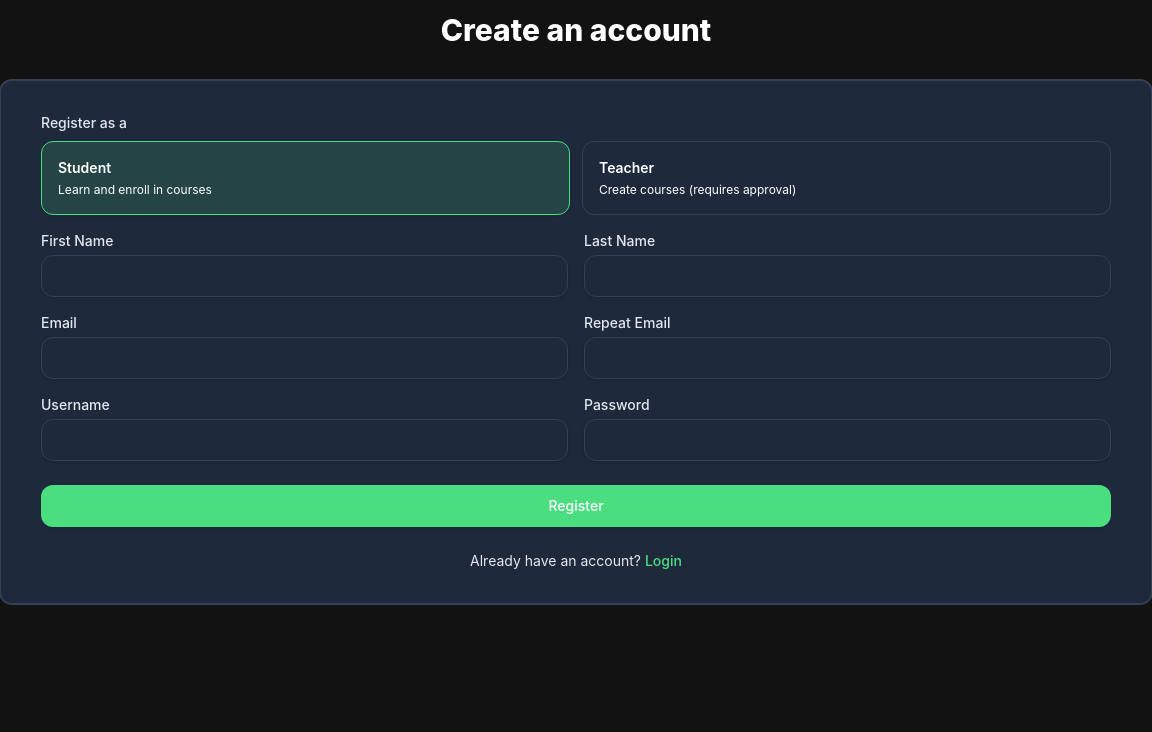
it: Register Component Test › Backend Error Handling › should handle 409 conflict error
The width and height of the screenshot is (1152, 732).
Type "john.doe@example.com" into the field labelled "Email" at (304,358), box [41,337,568,379]
Type "john.doe@example.com" into the field labelled "Repeat Email" at (848,358), box [584,337,1111,379]
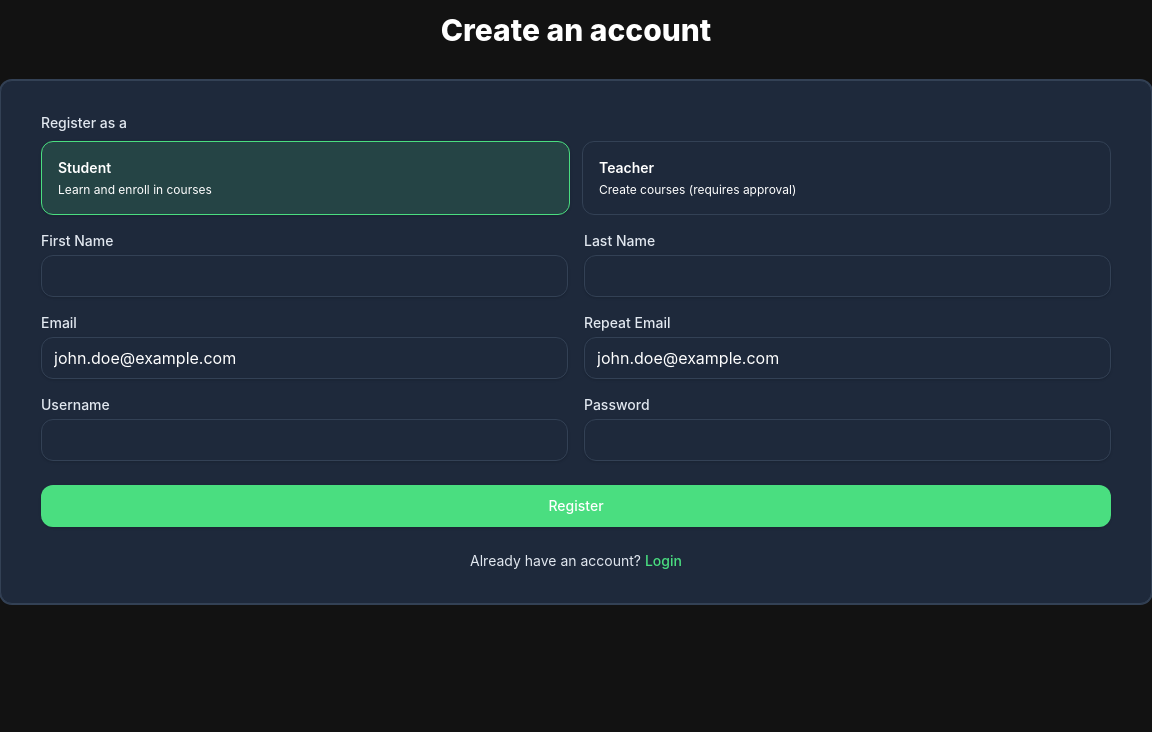
Type "John" into the field labelled "First Name" at (304,276), box [41,255,568,297]
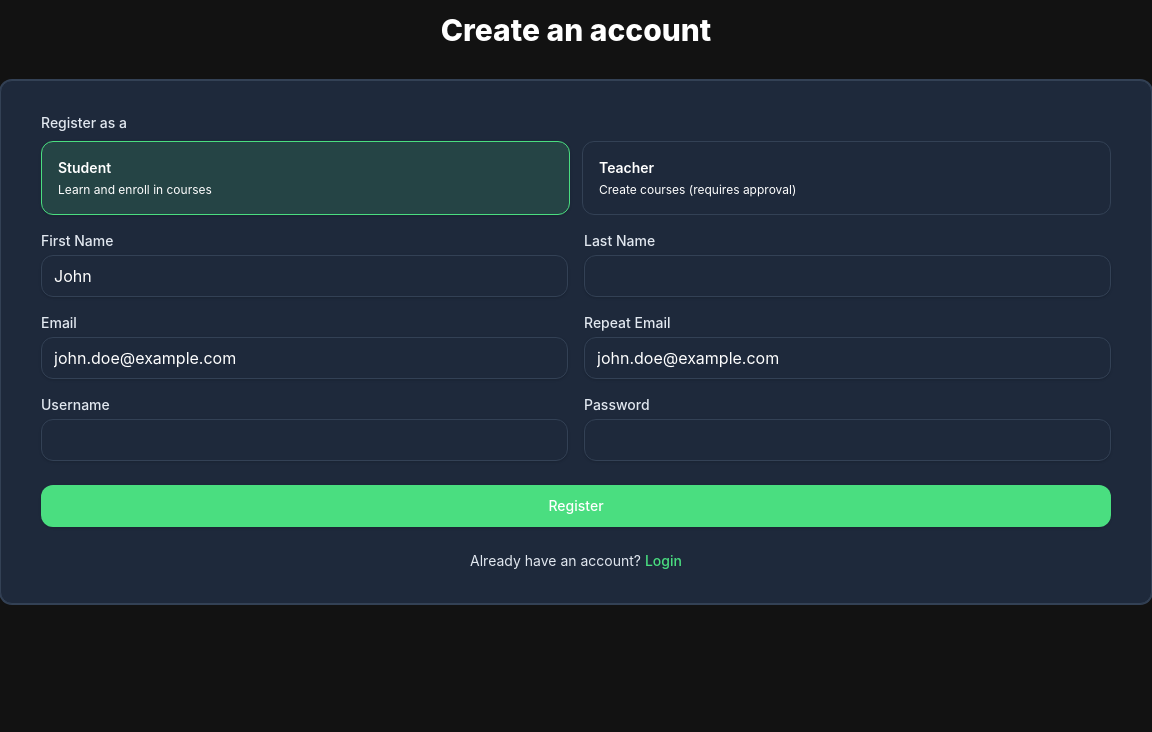
Type "Doe" into the field labelled "Last Name" at (848,276), box [584,255,1111,297]
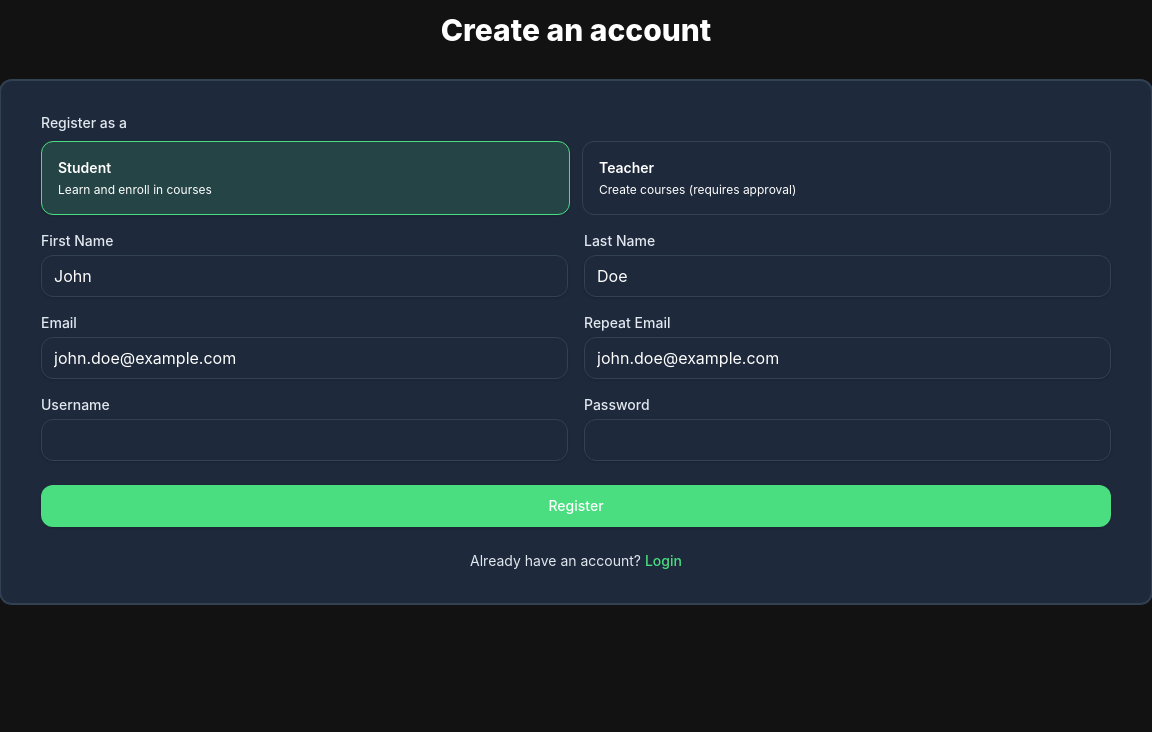
Type "johndoe" into the field labelled "Username" at (304,440), box [41,419,568,461]
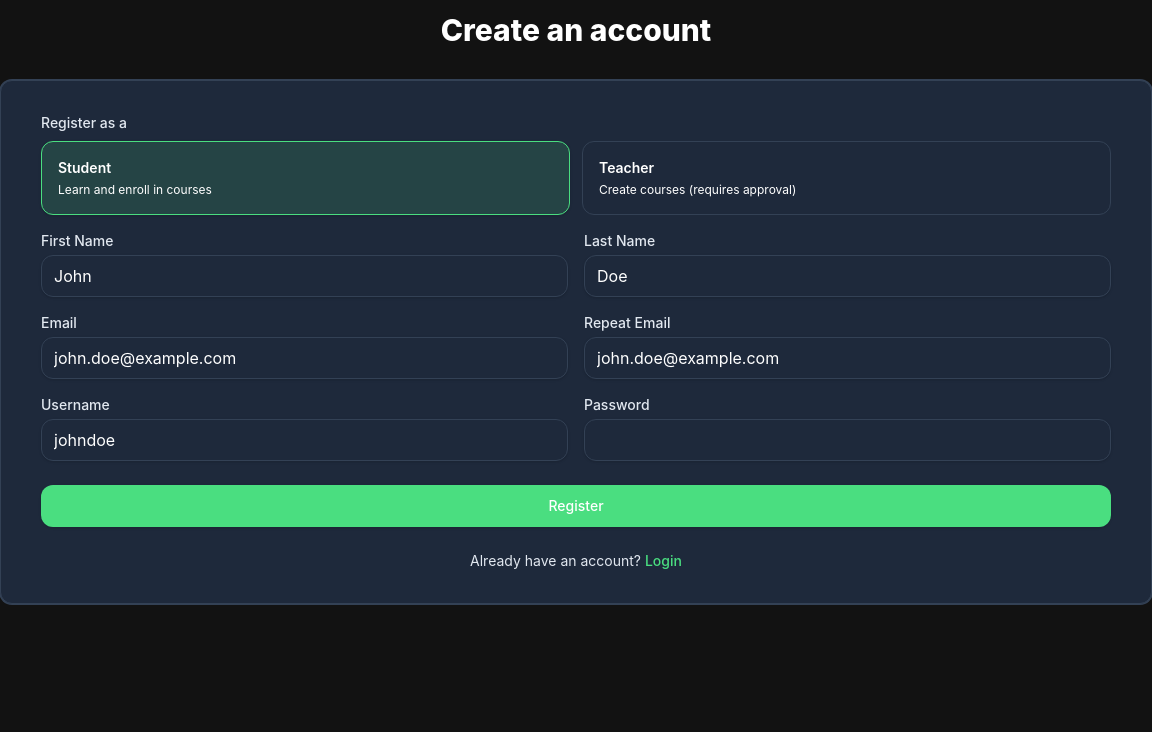
Type "securePassword123" into the password field labelled "Password" at (848,440), box [584,419,1111,461]
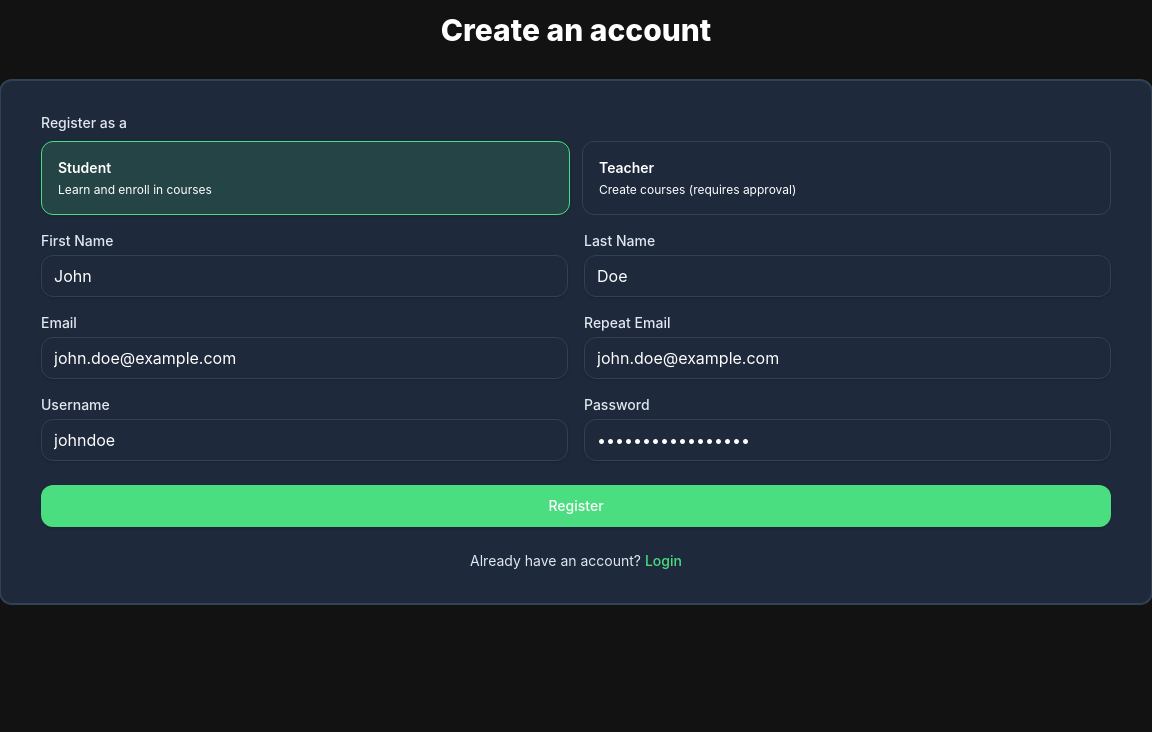
Click the button "Register" at (576,506), box [41,485,1111,527]
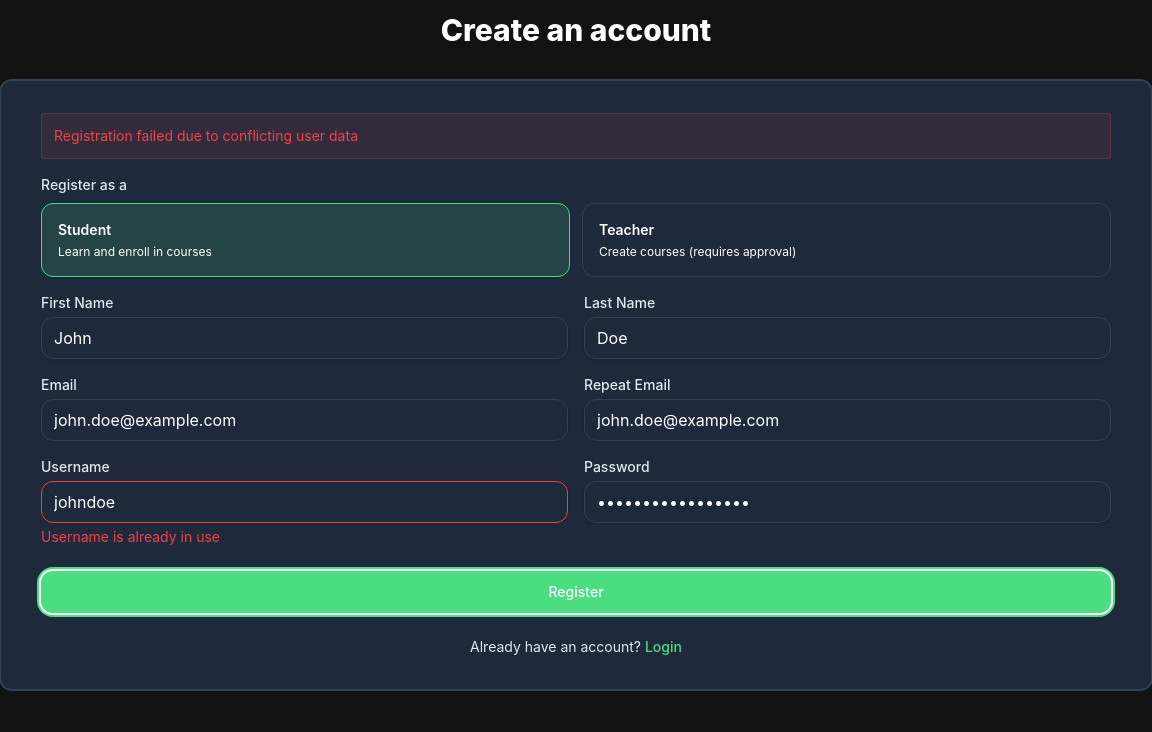
Result: the text "Registration failed due to conflicting user data" is shown at [54,127,358,144]
Result: the text "Username is already in use" is shown at [41,528,220,545]
